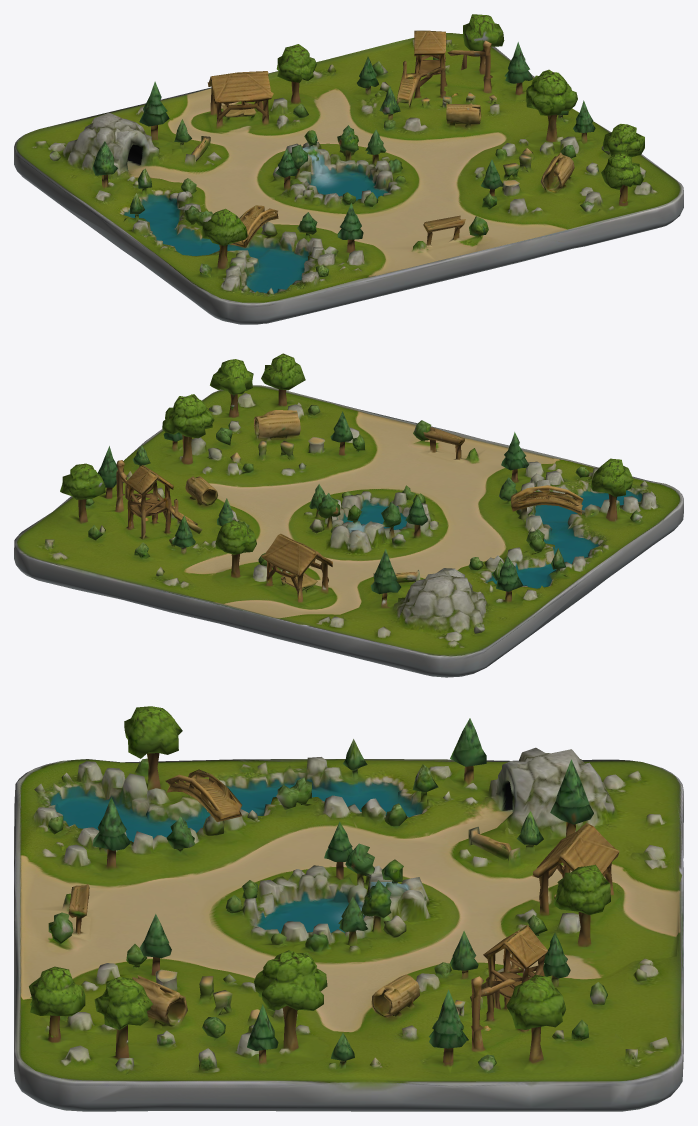
Rendered from bear-play-zone.glb.
3 renders of one model, top to bottom at view 1: azimuth 30°, elevation 25°; view 2: azimuth 150°, elevation 25°; view 3: azimuth 270°, elevation 25°, orthographic. The views are drawn at different scales.
Parts seen in each view (by area): view 1: tripo_node_2ed8e3e6-45b5-476a-b29b-07105e6f3532; view 2: tripo_node_2ed8e3e6-45b5-476a-b29b-07105e6f3532; view 3: tripo_node_2ed8e3e6-45b5-476a-b29b-07105e6f3532.
Part boxes in pixels (left/top/right/bottom): tripo_node_2ed8e3e6-45b5-476a-b29b-07105e6f3532: left=14, top=14, right=683, bottom=324; tripo_node_2ed8e3e6-45b5-476a-b29b-07105e6f3532: left=14, top=353, right=683, bottom=677; tripo_node_2ed8e3e6-45b5-476a-b29b-07105e6f3532: left=14, top=706, right=683, bottom=1111.
Size of the model in its own units: 0.9797 by 0.1788 by 0.8545.
1 material, 1 textured.
